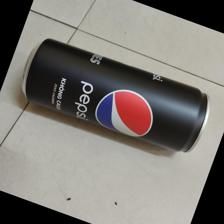Pepsi: (16, 18, 210, 153)
